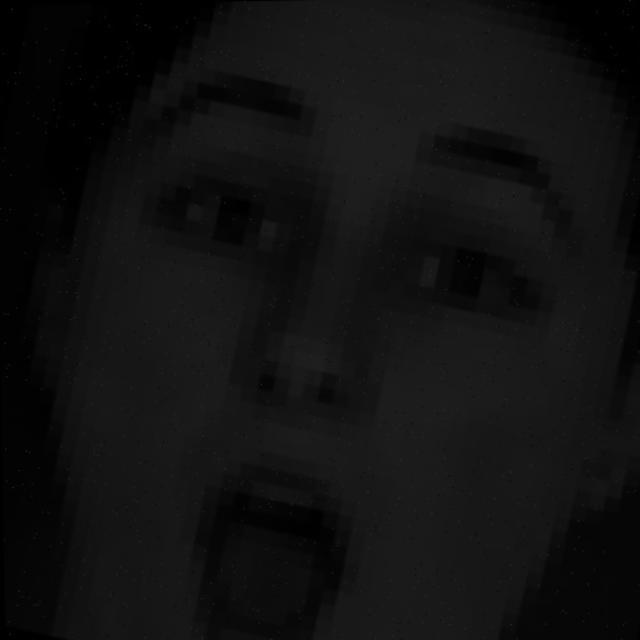Surprised: (83, 66, 554, 640)
